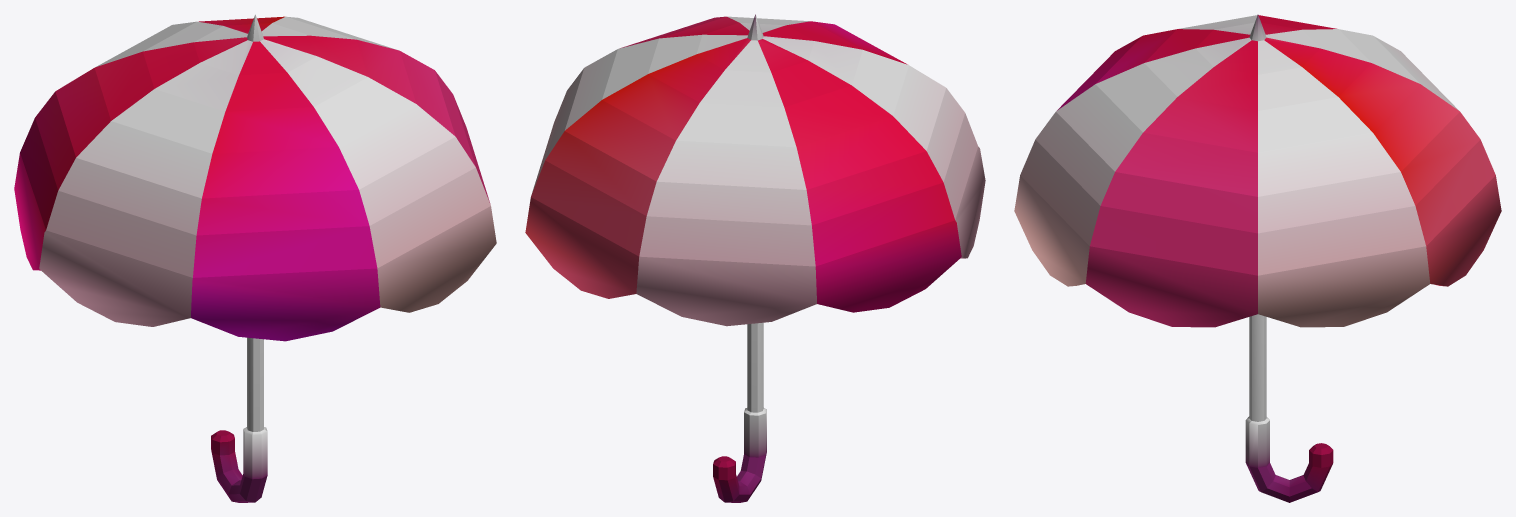
Rendered from vc_umbrella_a004.fbx.
The picture shows the model from 3 angles, left to right: view 1: azimuth 30°, elevation 25°; view 2: azimuth 150°, elevation 25°; view 3: azimuth 270°, elevation 25°; orthographic projection. The views are drawn at different scales.
Parts seen in each view (by area): view 1: mesh_umbrella_a; view 2: mesh_umbrella_a; view 3: mesh_umbrella_a.
Part boxes in pixels (x1,y1,x2,y2): mesh_umbrella_a: (14, 14, 496, 502); mesh_umbrella_a: (525, 14, 985, 502); mesh_umbrella_a: (1014, 14, 1501, 502).
Bounding box in the file's own units: 76.66 × 84.8 × 76.66.
